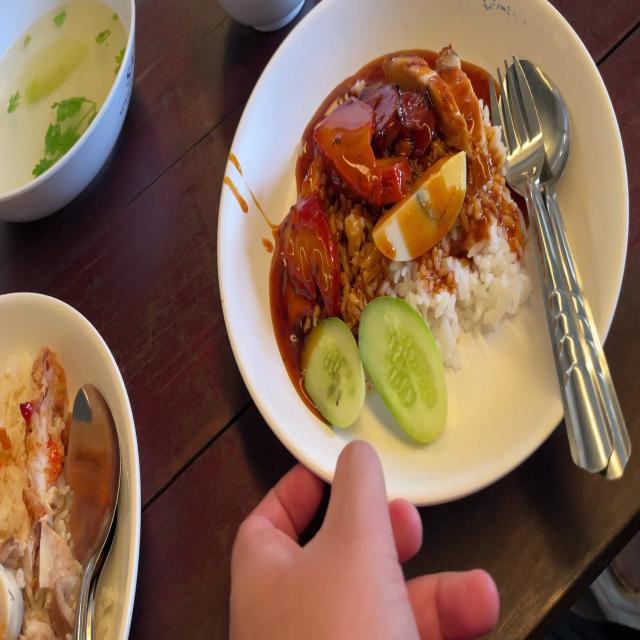chicken_rice: (0, 523, 82, 640)
red_pork_and_crispy_pork: (374, 153, 467, 260)
stir_fried_basil: (376, 78, 432, 160)
